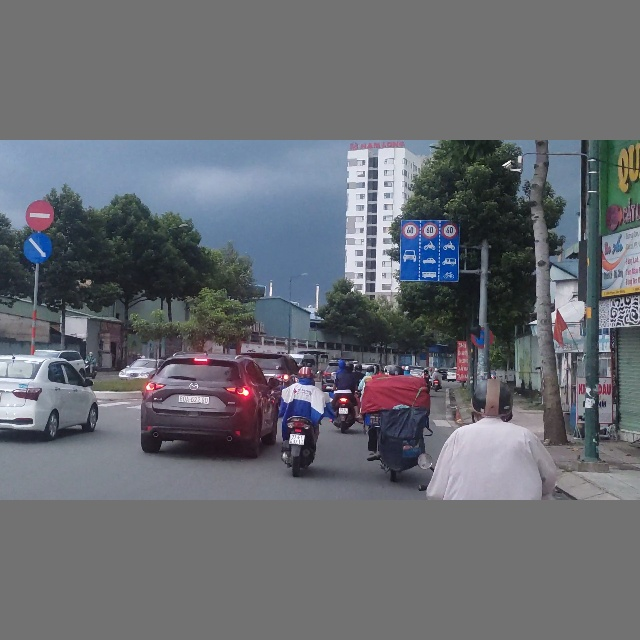P.102: (26, 201, 54, 230)
P.127*60: (402, 222, 419, 239), (422, 222, 439, 238), (442, 222, 459, 238)
R.302a: (22, 232, 54, 265)
R.415a: (399, 239, 459, 281)
